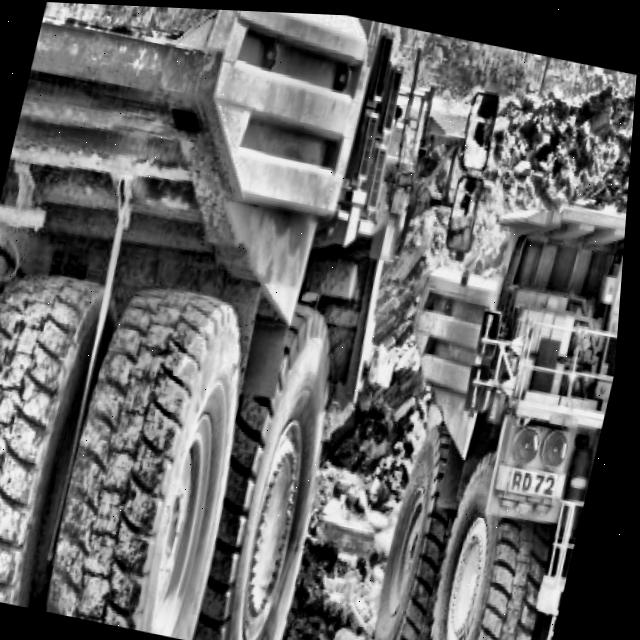dump_truck: (0, 0, 430, 640), (340, 112, 634, 640)
